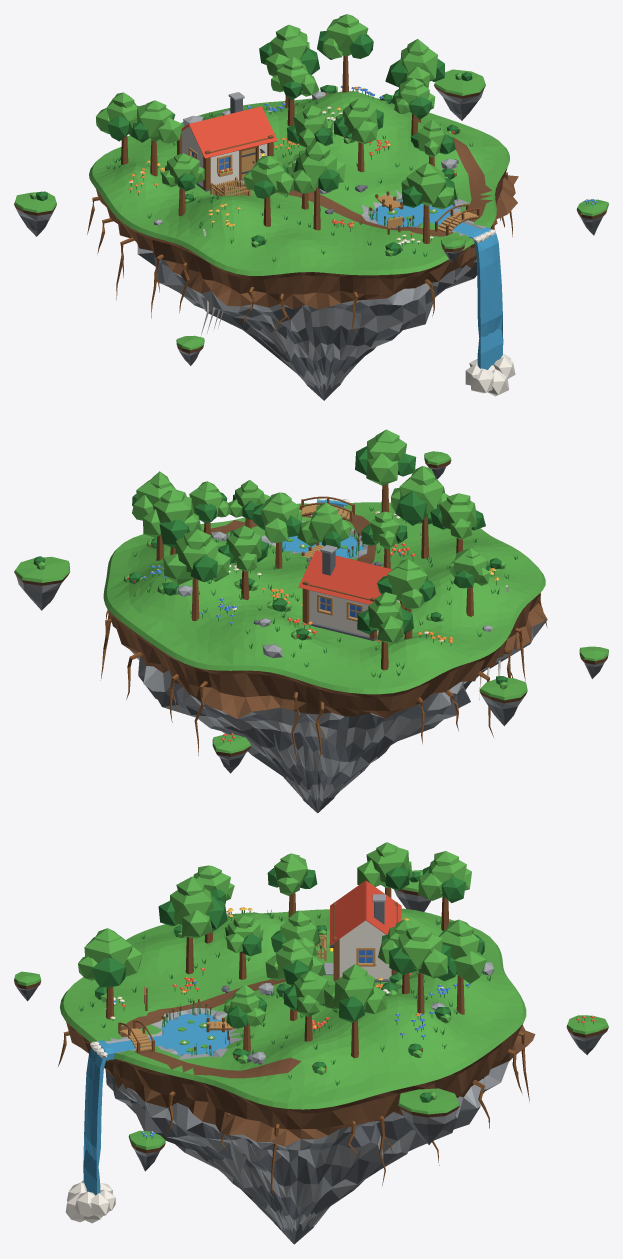
The model's file is meadow-sky-island.glb.
3 views of the same model, one above another, from view 1: azimuth 30°, elevation 25°; view 2: azimuth 150°, elevation 25°; view 3: azimuth 270°, elevation 25° (orthographic). The views are drawn at different scales.
Parts seen in each view (by area): view 1: Island_Ground, Waterfall, Cottage_Roof, Tree_12, Tree_03, Tree_06, Tree_00, Tree_14, Tree_04, Tree_01, Tree_13, FloatingRock_0 (+17 smaller); view 2: Island_Ground, Tree_14, Cottage_Roof, Tree_03, Tree_12, Tree_06, Tree_05, Roots, Tree_01, Tree_00, FloatingRock_0, Tree_13 (+16 smaller); view 3: Island_Ground, Tree_12, Tree_03, Tree_06, Tree_04, Waterfall, Cottage_Roof, Lake_Water, Tree_14, Tree_05, FloatingRock_0, Tree_00 (+18 smaller).
Part boxes in pixels (bbox=[...]): Island_Ground: bbox=[89, 91, 518, 400]; Waterfall: bbox=[468, 227, 503, 369]; Cottage_Roof: bbox=[181, 106, 277, 158]; Tree_12: bbox=[291, 141, 345, 230]; Tree_03: bbox=[401, 162, 456, 243]; Tree_06: bbox=[317, 14, 373, 92]; Tree_00: bbox=[128, 100, 182, 176]; Tree_14: bbox=[259, 24, 319, 107]; Tree_04: bbox=[385, 39, 444, 122]; Tree_01: bbox=[334, 98, 383, 172]; Tree_13: bbox=[244, 156, 294, 226]; FloatingRock_0: bbox=[434, 69, 485, 120]; Island_Ground: bbox=[103, 502, 547, 813]; Tree_14: bbox=[163, 529, 230, 620]; Cottage_Roof: bbox=[298, 550, 392, 604]; Tree_03: bbox=[355, 429, 416, 512]; Tree_12: bbox=[390, 466, 448, 558]; Tree_06: bbox=[143, 490, 201, 554]; Tree_05: bbox=[357, 592, 413, 670]; Roots: bbox=[100, 592, 547, 764]; Tree_01: bbox=[252, 492, 302, 568]; Tree_00: bbox=[377, 559, 435, 639]; FloatingRock_0: bbox=[14, 556, 70, 610]; Tree_13: bbox=[430, 493, 485, 553]; Island_Ground: bbox=[60, 908, 535, 1244]; Tree_12: bbox=[158, 876, 227, 974]; Tree_03: bbox=[78, 928, 142, 1019]; Tree_06: bbox=[389, 926, 451, 1014]; Tree_04: bbox=[323, 964, 386, 1058]; Waterfall: bbox=[83, 1040, 114, 1195]; Cottage_Roof: bbox=[330, 880, 401, 944]; Lake_Water: bbox=[107, 1013, 229, 1060]; Tree_14: bbox=[437, 919, 486, 1014]; Tree_05: bbox=[418, 851, 471, 930]; FloatingRock_0: bbox=[398, 1088, 460, 1144]; Tree_00: bbox=[357, 842, 412, 897].
Bounding box in the file's own units: 134 × 88.99 × 133.
